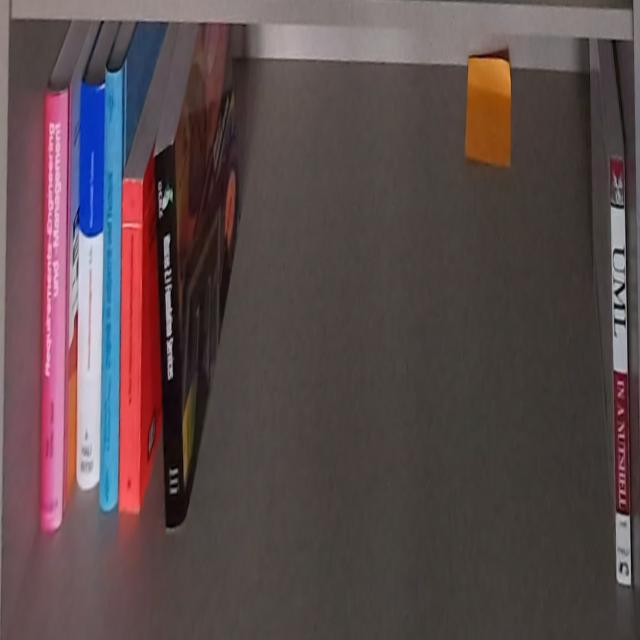Book Spine: (39, 91, 69, 532), (152, 144, 184, 530), (77, 81, 105, 491), (100, 66, 124, 509), (608, 158, 632, 593), (120, 179, 144, 516)
